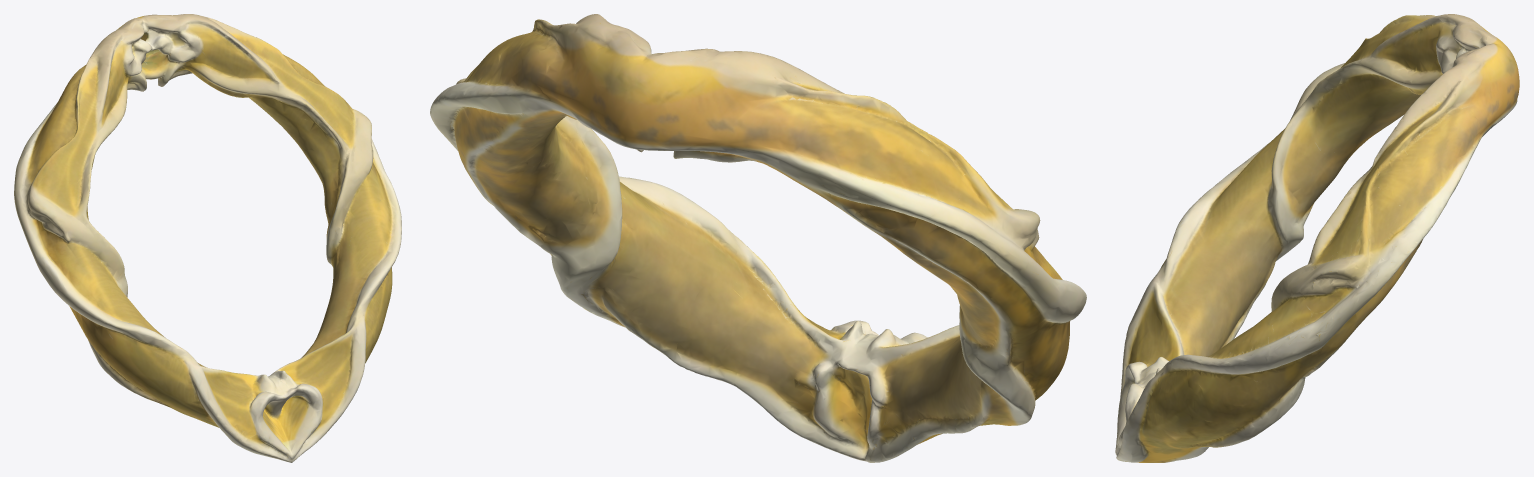
The model's file is SoulOrb_Ring_Inner.glb.
3 renders of one model, left to right at view 1: azimuth 30°, elevation 25°; view 2: azimuth 150°, elevation 25°; view 3: azimuth 270°, elevation 25°, orthographic. The views are drawn at different scales.
Visible parts, largest first — view 1: Mesh1.0; view 2: Mesh1.0; view 3: Mesh1.0.
Boxes of the visible parts, left/top/right/bottom form: Mesh1.0: left=14, top=14, right=401, bottom=462; Mesh1.0: left=430, top=14, right=1086, bottom=462; Mesh1.0: left=1115, top=14, right=1519, bottom=462.
Bounding box in the file's own units: 2.01 × 1.86 × 1.61.
1 material, 1 textured.
